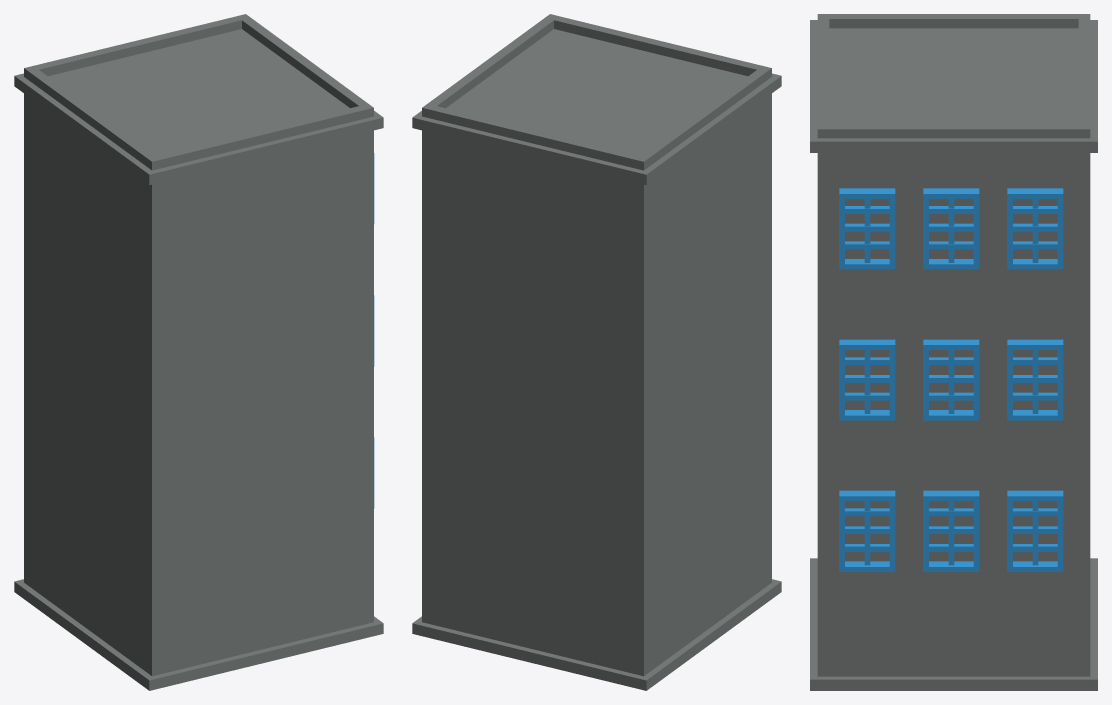
Rendered from Built.glb.
3 views of the same model, side by side, from view 1: azimuth 30°, elevation 25°; view 2: azimuth 150°, elevation 25°; view 3: azimuth 270°, elevation 25° (orthographic). The views are drawn at different scales.
Parts seen in each view (by area): view 1: Cube; view 2: Cube; view 3: Cube.
Part boxes in pixels (left/top/right/bottom): Cube: left=14, top=14, right=383, bottom=690; Cube: left=412, top=14, right=781, bottom=690; Cube: left=810, top=14, right=1097, bottom=690.
Size of the model in its own units: 2.15 by 4.52 by 2.11.
